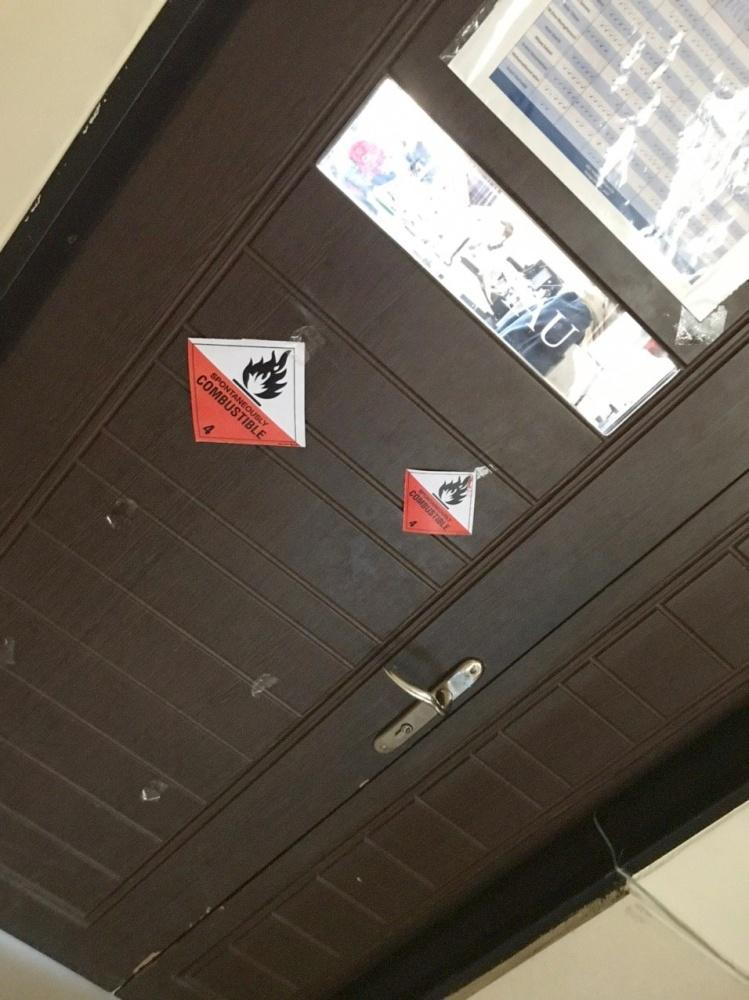spontaneously-combustible: (184, 336, 310, 450), (401, 468, 477, 538)
